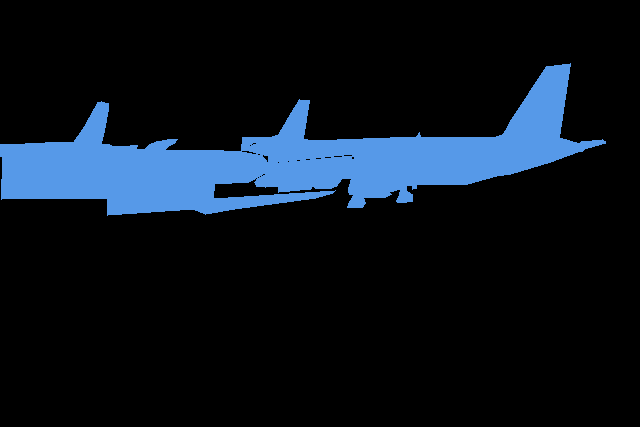Airplane: (241, 63, 605, 208), (1, 144, 352, 215), (144, 99, 312, 150), (0, 101, 137, 157)
